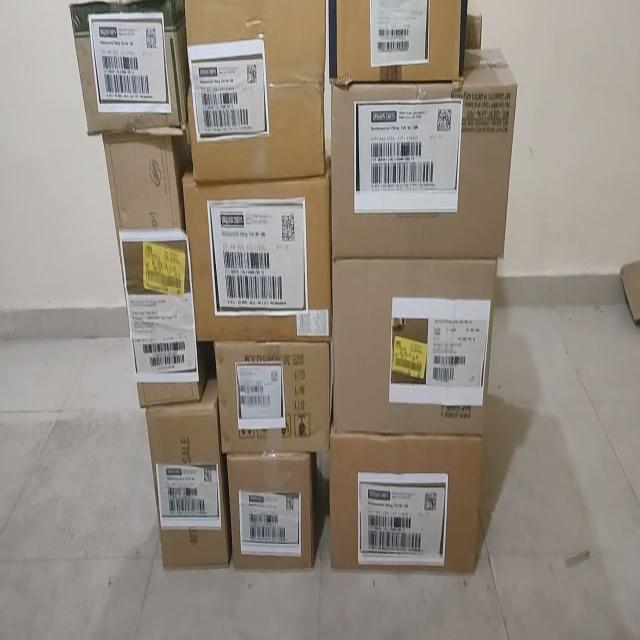BoxFace: (329, 45, 518, 258), (331, 257, 497, 435), (100, 129, 202, 406), (181, 164, 331, 342), (184, 0, 326, 182), (328, 423, 484, 575), (144, 378, 230, 569), (68, 0, 188, 135), (214, 339, 330, 453), (328, 0, 468, 84), (225, 450, 317, 570)
